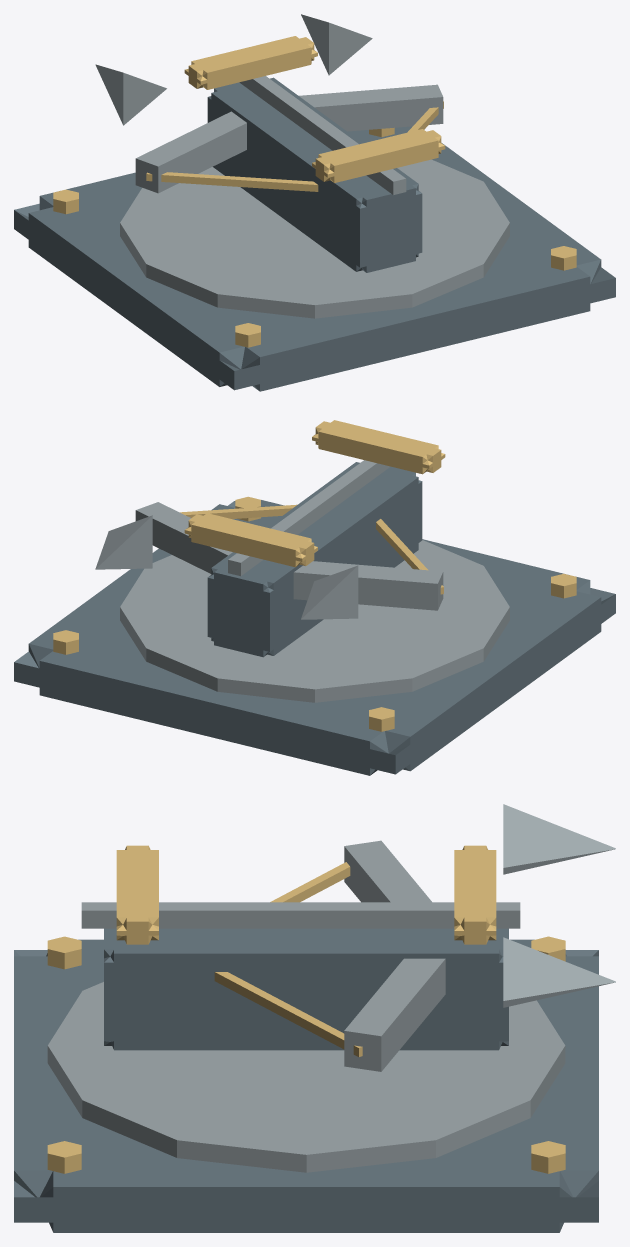
Rendered from TrapIronArrow.fbx.
The picture shows the model from 3 angles, top to bottom: view 1: azimuth 30°, elevation 25°; view 2: azimuth 150°, elevation 25°; view 3: azimuth 270°, elevation 25°; orthographic projection. The views are drawn at different scales.
Parts seen in each view (by area): view 1: TrapIronArrow.002; view 2: TrapIronArrow.002; view 3: TrapIronArrow.002.
Part boxes in pixels (bbox=[...]): TrapIronArrow.002: bbox=[14, 14, 615, 391]; TrapIronArrow.002: bbox=[14, 420, 615, 775]; TrapIronArrow.002: bbox=[14, 804, 615, 1232].
Size of the model in its own units: 1.04 by 0.4493 by 1.07.
